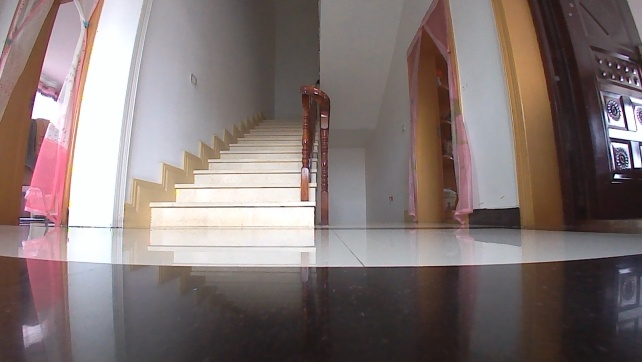door_anno: (524, 0, 641, 238)
